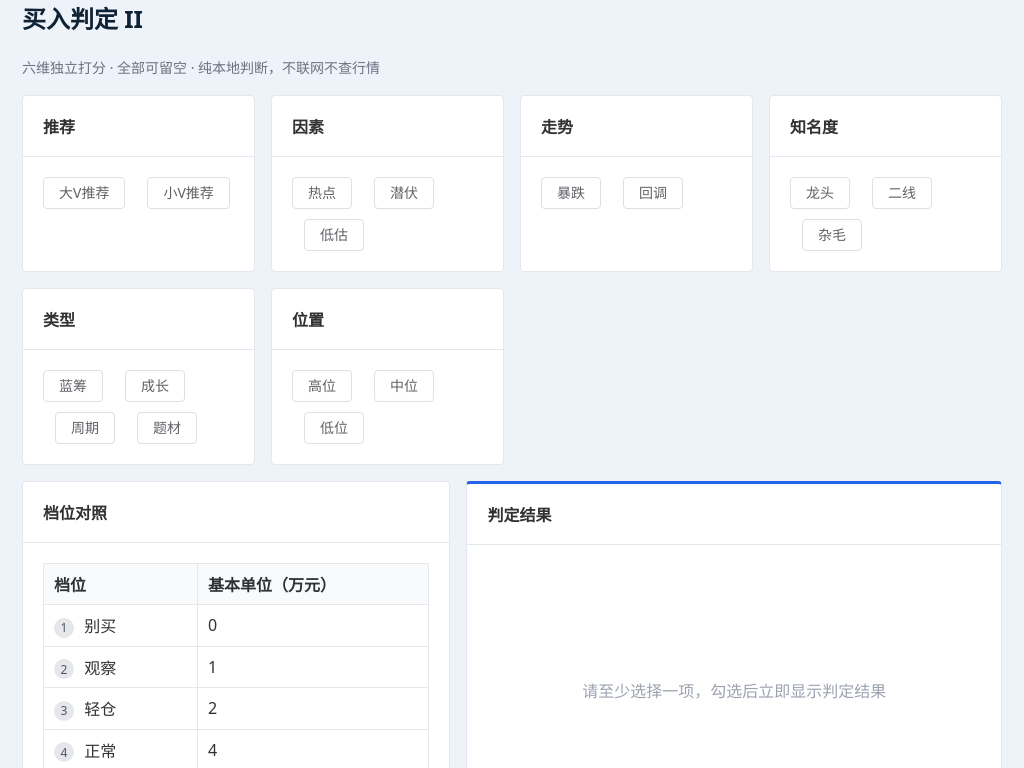
Test: BuyDecisionII › clears all selections
Click the button with test id "recommends-大V推荐" at (84, 193), box [43, 177, 125, 209]
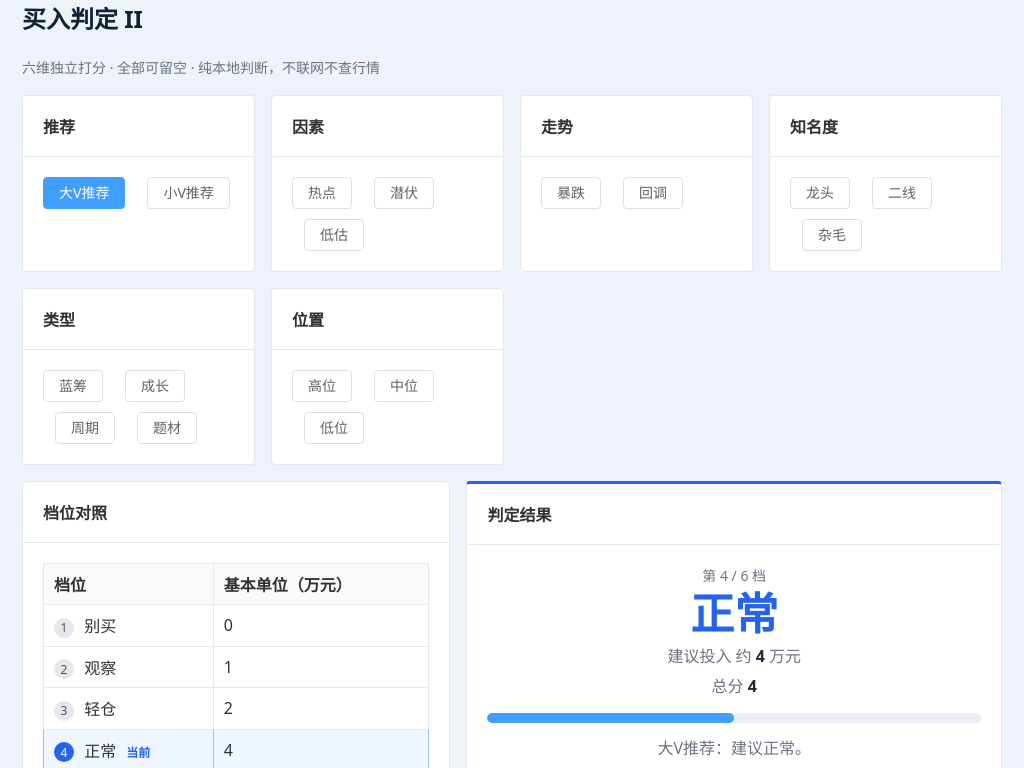
Click the button with test id "position-低位" at (334, 428), box [304, 412, 364, 444]
(page scrolled)
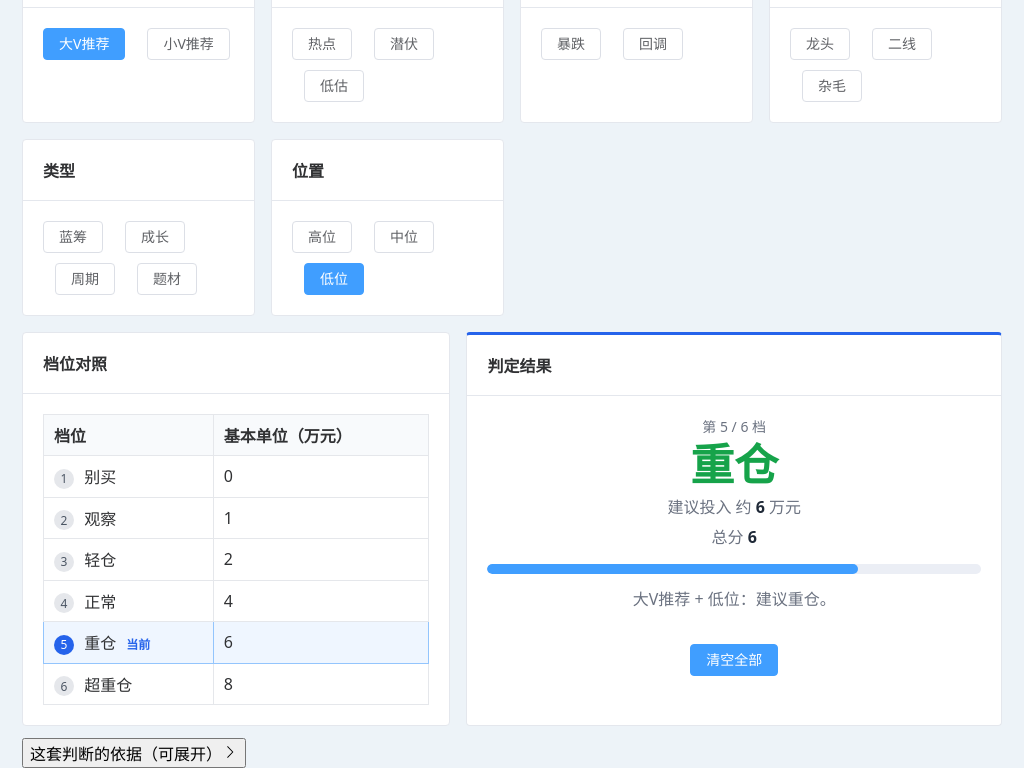
Check: the element with test id "decision-result" is shown, box [487, 416, 981, 676]
Click the button with test id "clear-all" at (734, 660), box [690, 644, 778, 676]
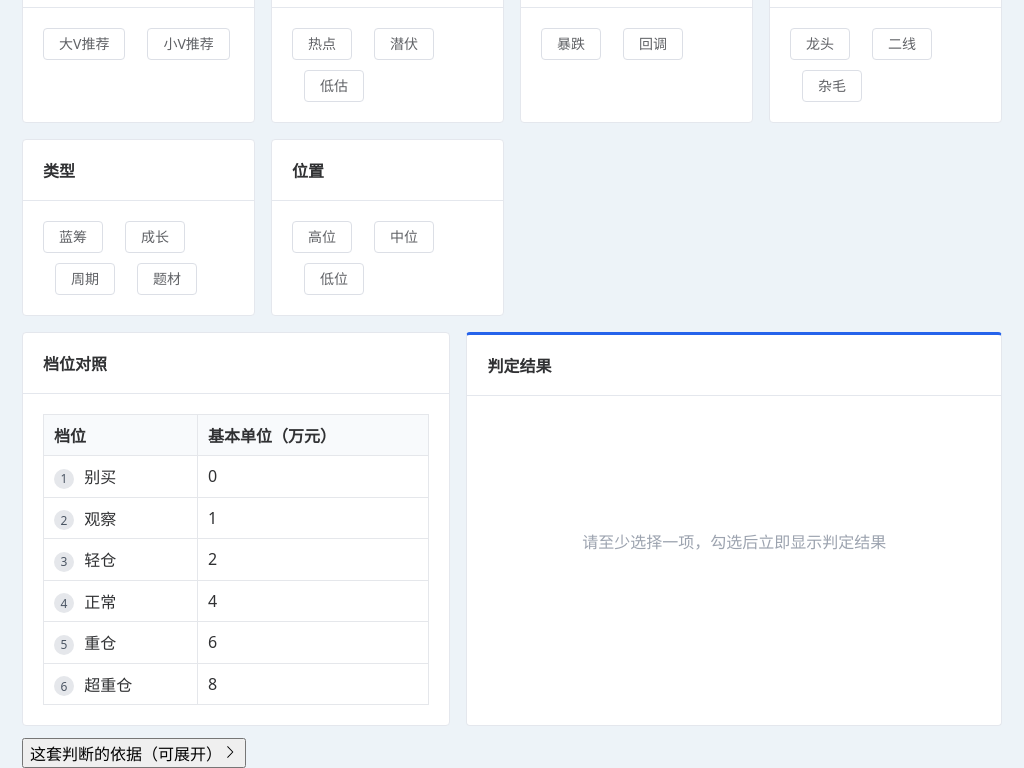
Check: the text "请至少选择一项，勾选后立即显示判定结果" is shown, box [582, 531, 886, 553]
